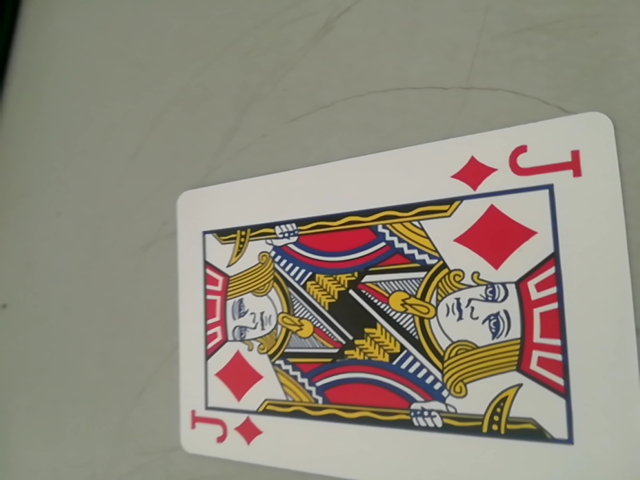fk j: (454, 135, 595, 194), (184, 405, 269, 456)
